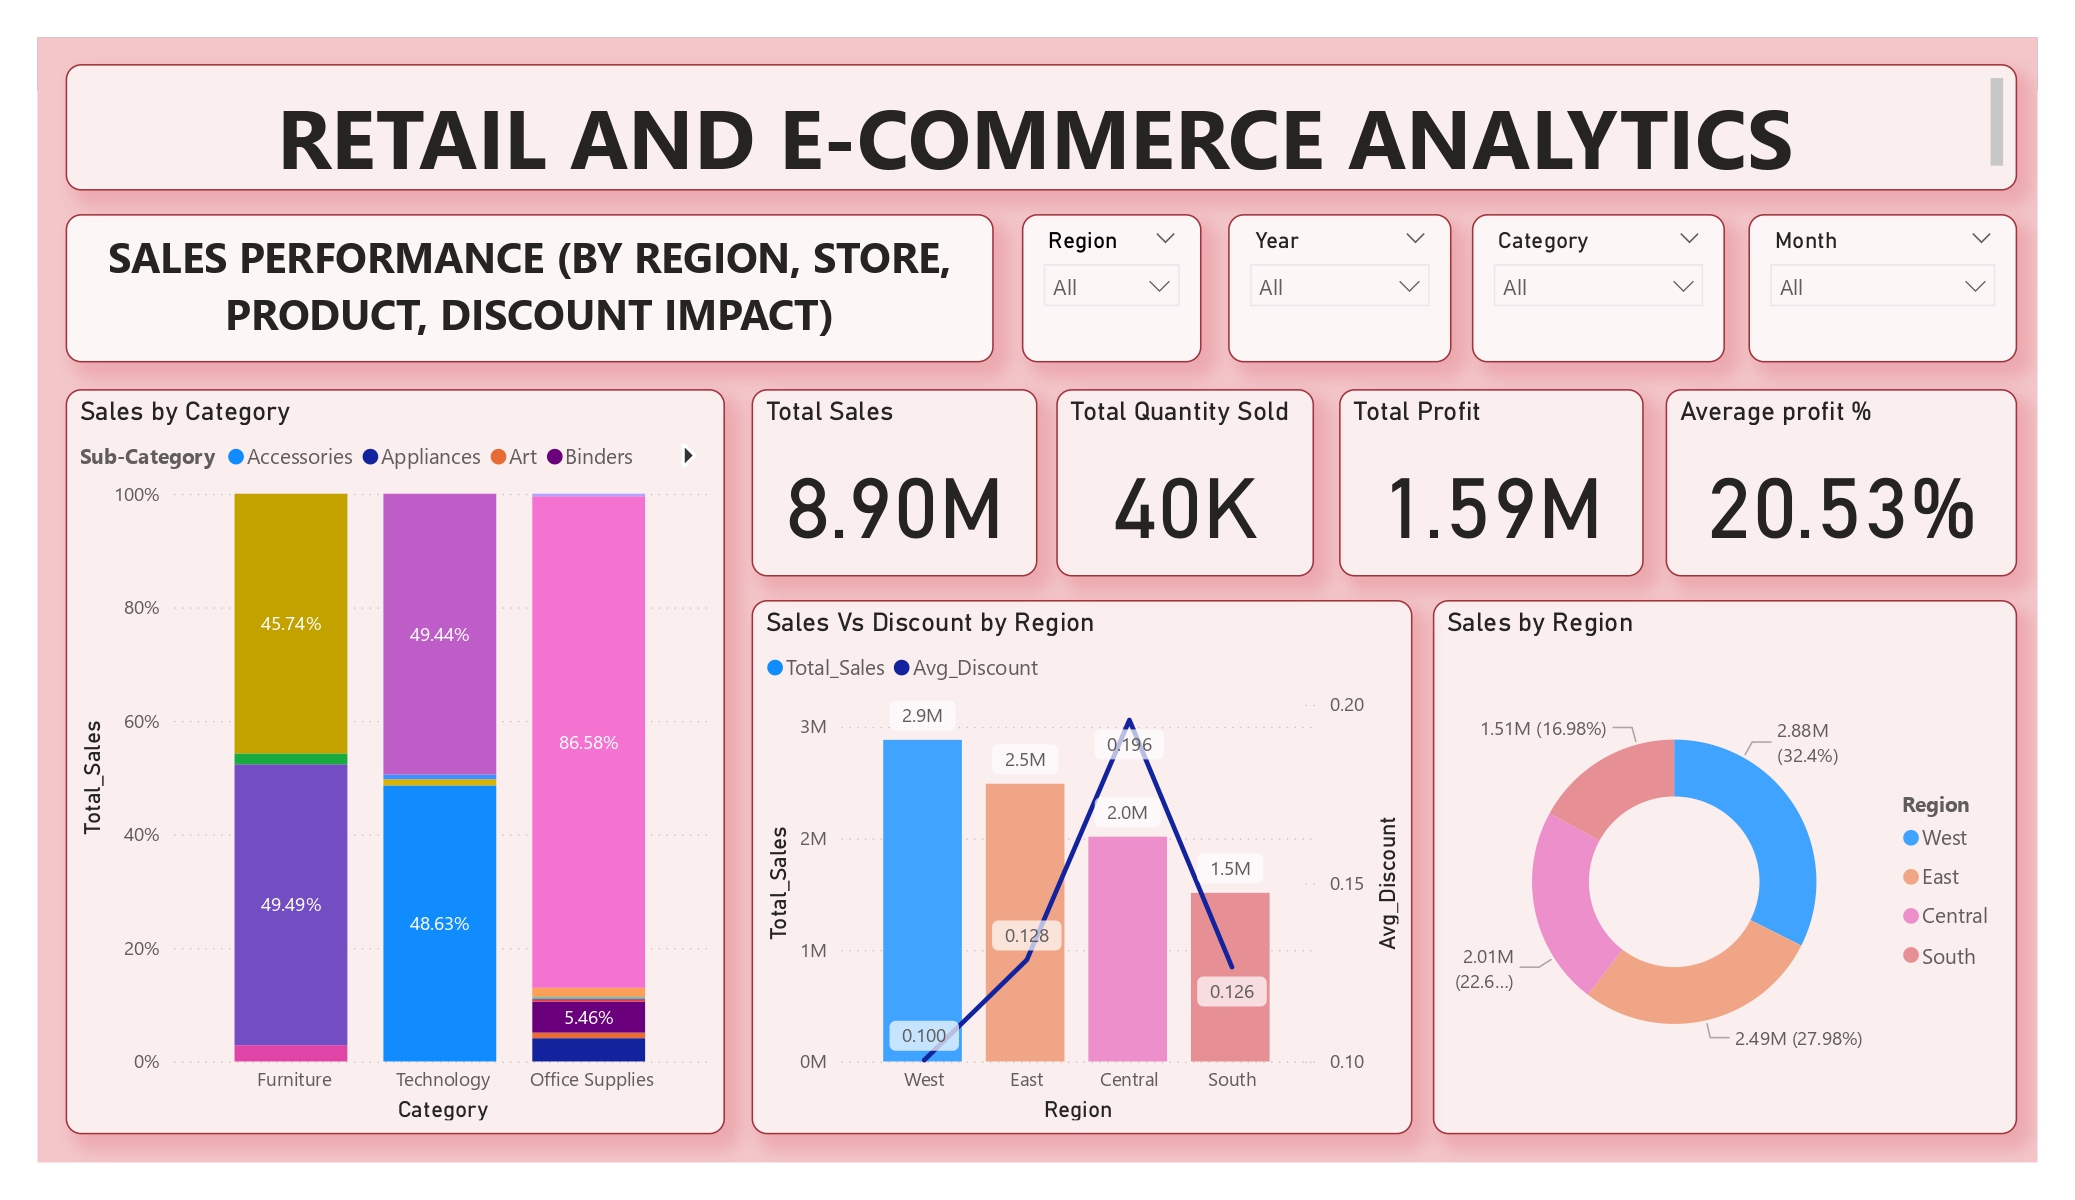

What the dashboard file says about the page in this screenshot:
{"tool":"powerbi","page":{"name":"Sales Performance","canvas":[1280,720],"ordinal":0},"visuals":[{"type":"donutChart","title":"Sales by Region","fields":{"Category":["Region_Dim.Region"],"Y":["Sales.Total_Sales"]},"box":[893.3,360,373.3,341.7],"z":0},{"type":"hundredPercentStackedColumnChart","title":"Sales by Category","fields":{"Category":["Product.Category"],"Y":["Sales.Total_Sales"],"Series":["Product.Sub-Category"]},"box":[18.3,225,421.7,476.7],"z":1000},{"type":"lineClusteredColumnComboChart","title":"Sales Vs Discount by Region ","fields":{"Y2":["Sales.Avg_Discount"],"Y":["Sales.Total_Sales"],"Category":["Region_Dim.Region"]},"box":[456.7,360,423.3,341.7],"z":2000},{"type":"card","title":"Total Sales","fields":{"Values":["Sales.Total_Sales"]},"box":[456.7,225,183.3,120],"z":3000},{"type":"card","title":"Total Profit","fields":{"Values":["Sales.Total_Profit"]},"box":[833.3,225,195,120],"z":4000},{"type":"card","title":"Total Quantity Sold","fields":{"Values":["Sales.Total_Quantity"]},"box":[651.7,225,165,120],"z":5000},{"type":"card","title":"Average profit %","fields":{"Values":["Sales.Avg_Profit_Margin"]},"box":[1041.7,225,225,120],"z":6000},{"type":"slicer","fields":{"Values":["DateTable.Year"]},"box":[761.7,113.3,143.3,95],"z":7000},{"type":"slicer","fields":{"Values":["Region_Dim.Region"]},"box":[630,113.3,115,95],"z":8000},{"type":"slicer","fields":{"Values":["Product.Category"]},"box":[918.3,113.3,161.7,95],"z":9000},{"type":"slicer","fields":{"Values":["DateTable.Month"]},"box":[1095,113.3,171.7,95],"z":10000},{"type":"textbox","box":[18.3,113.3,593.3,95],"z":11000},{"type":"textbox","box":[18.3,16.7,1248.3,81.7],"z":12000}]}

Visuals, with their boxes on the page's 1280x720 design canvas (x1, y1, x2, y2). These are canvas units, not pixel positions in the 2075x1200 screenshot, which may show the page scaled, cropped or inside an application window:
"Sales by Region" donutChart: [893, 360, 1267, 702]
"Sales by Category" hundredPercentStackedColumnChart: [18, 225, 440, 702]
"Sales Vs Discount by Region " lineClusteredColumnComboChart: [457, 360, 880, 702]
"Total Sales" card: [457, 225, 640, 345]
"Total Profit" card: [833, 225, 1028, 345]
"Total Quantity Sold" card: [652, 225, 817, 345]
"Average profit %" card: [1042, 225, 1267, 345]
slicer - DateTable.Year: [762, 113, 905, 208]
slicer - Region_Dim.Region: [630, 113, 745, 208]
slicer - Product.Category: [918, 113, 1080, 208]
slicer - DateTable.Month: [1095, 113, 1267, 208]
textbox: [18, 113, 612, 208]
textbox: [18, 17, 1267, 98]
